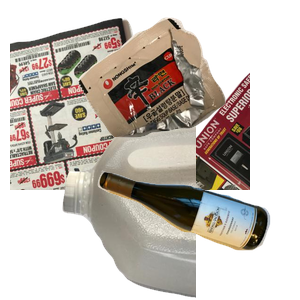glass: (95, 168, 300, 300)
paper: (10, 15, 250, 195)
plastic: (60, 120, 300, 300)
trash: (76, 15, 300, 145)
